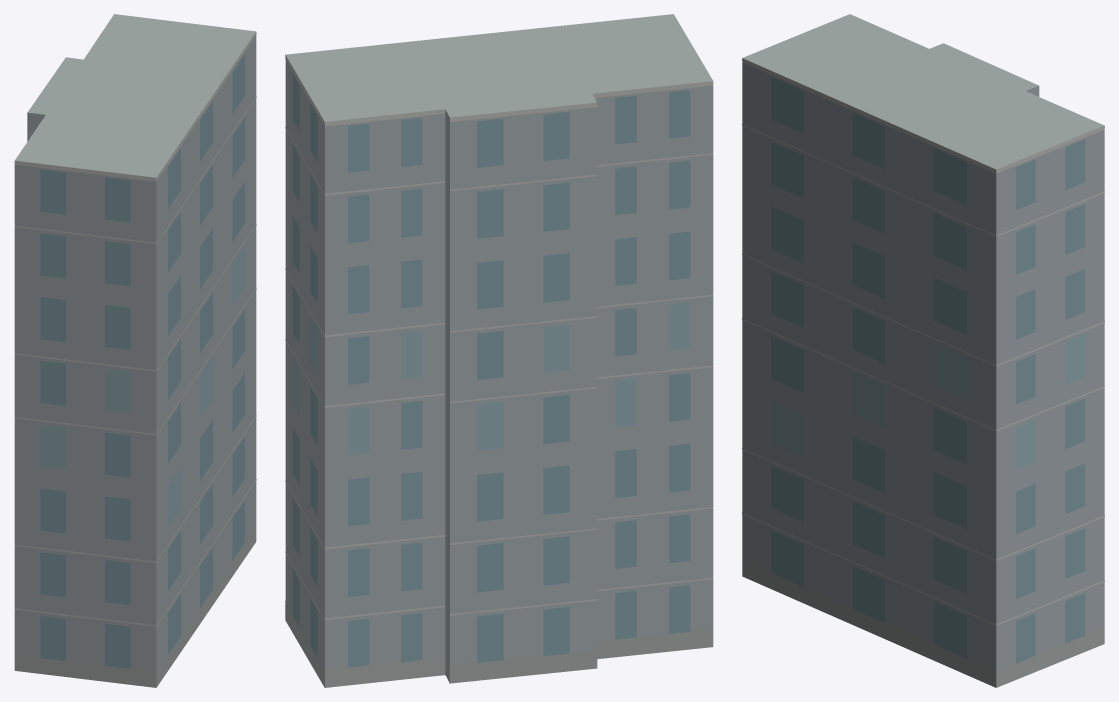
File: survey-upis-32569417.glb
3 views of the same model, side by side, from view 1: azimuth 30°, elevation 25°; view 2: azimuth 150°, elevation 25°; view 3: azimuth 270°, elevation 25° (orthographic). The views are drawn at different scales.
Parts seen in each view (by area): view 1: survey-upis-32569417.tmp; view 2: survey-upis-32569417.tmp; view 3: survey-upis-32569417.tmp.
Boxes of the visible parts, x1=… form: survey-upis-32569417.tmp: x1=14, y1=14, x2=256, y2=687; survey-upis-32569417.tmp: x1=285, y1=14, x2=713, y2=687; survey-upis-32569417.tmp: x1=742, y1=14, x2=1104, y2=687.
Size of the model in its own units: 19.29 by 29.95 by 19.
